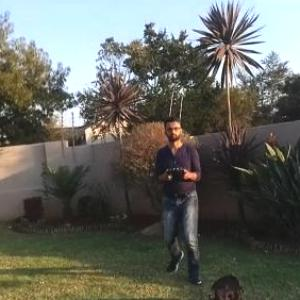follow: (151, 113, 206, 287)
null: (193, 274, 250, 299)
